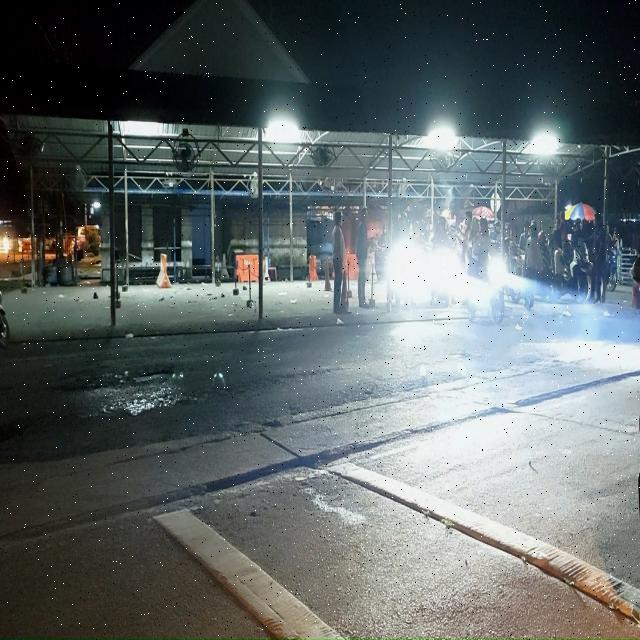Golongan II: (466, 256, 506, 324), (552, 242, 592, 303), (428, 247, 466, 306), (505, 242, 524, 304), (603, 248, 618, 292)
